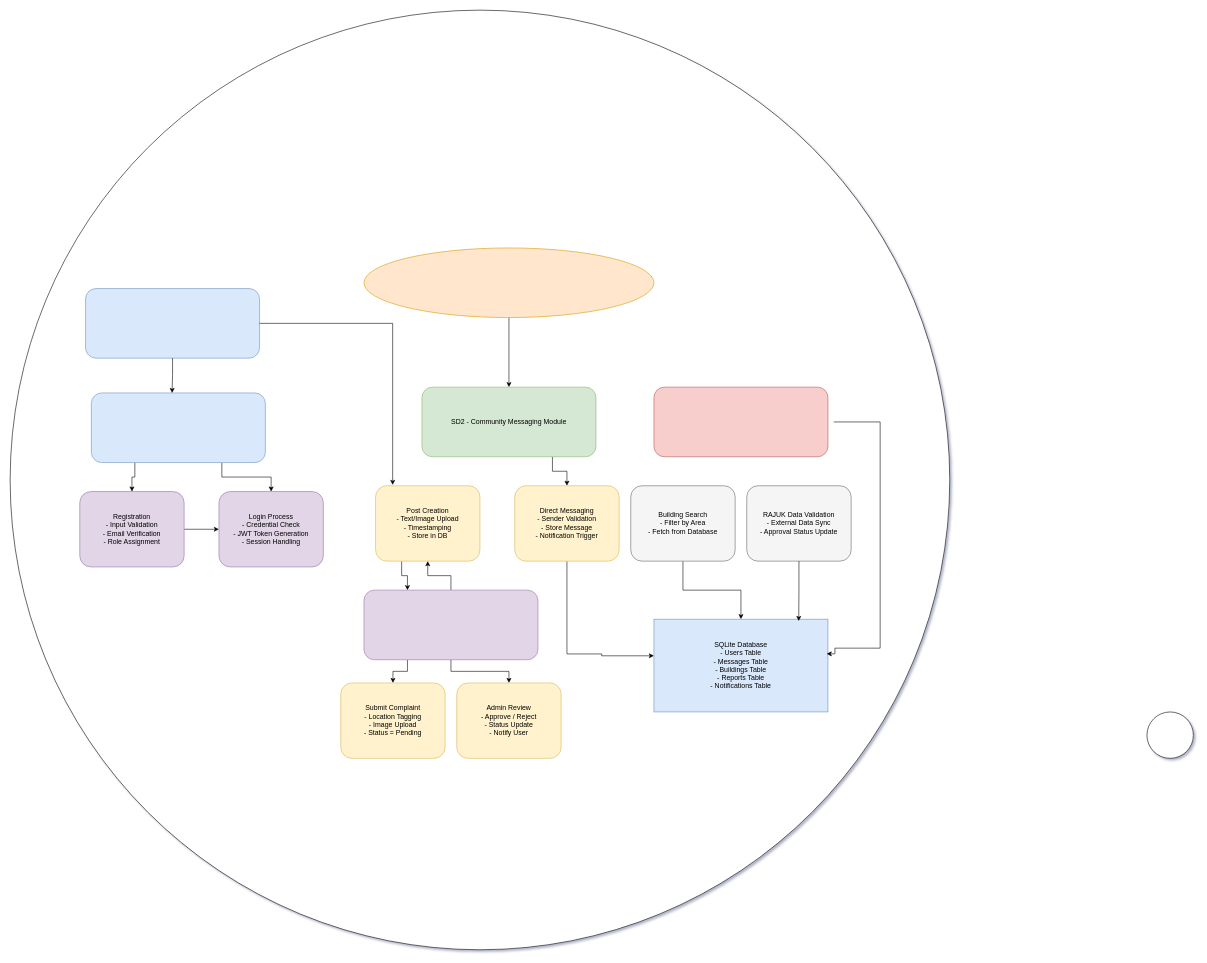
This 1207x963 diagram has some shape labels left out. Here are the shapes that lost their labels. From the top down, the box of each, then its label:
(363, 247, 654, 318): SD - City-Zen Civic Interaction System
(85, 288, 260, 358): User
(91, 392, 265, 463): SD1 - Authentication Module
(653, 387, 828, 457): SD3 - Building Verification Module
(363, 590, 538, 660): SD4 - Issue Reporting Module
